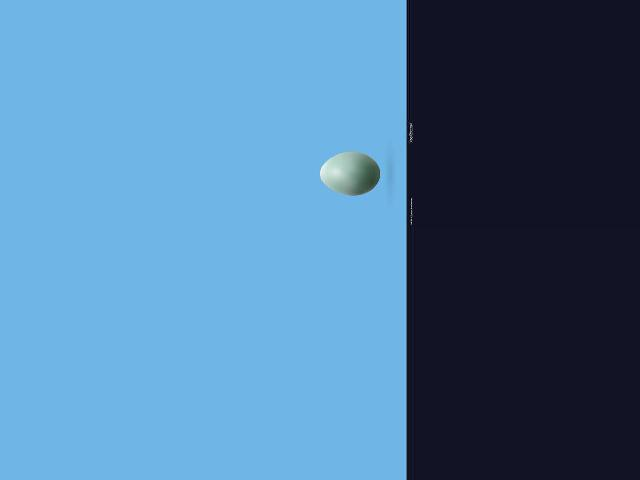egg: (319, 152, 379, 196)
